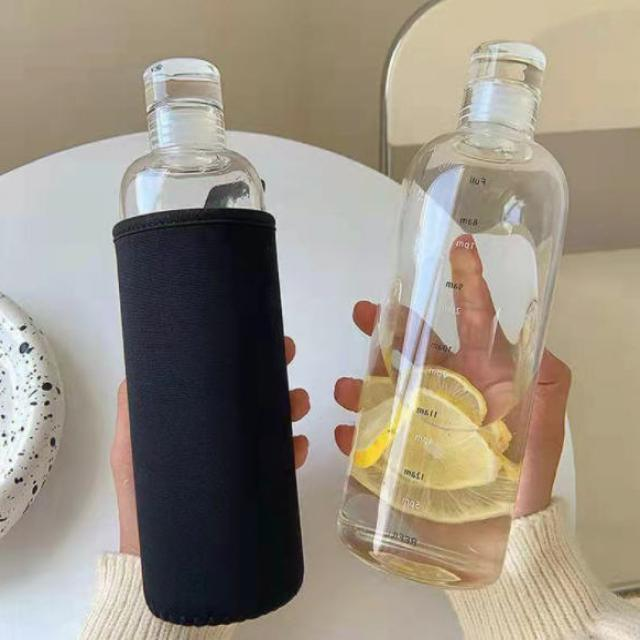glass: (334, 37, 573, 593), (119, 56, 264, 220)
